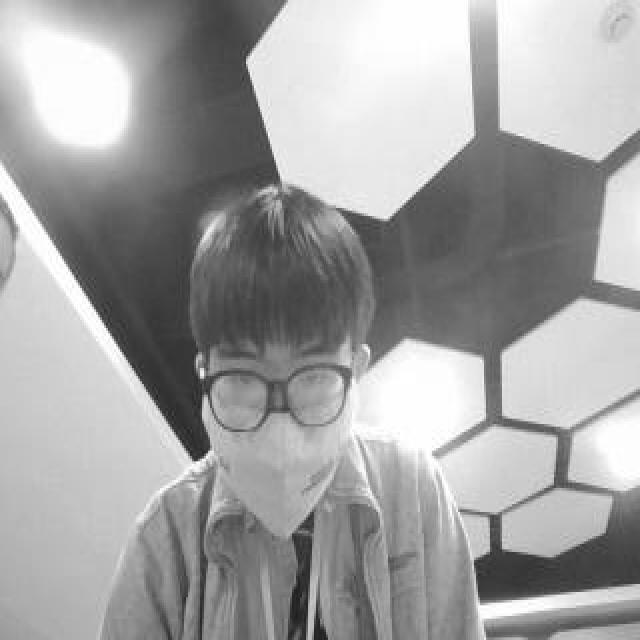Focused: (202, 340, 355, 510)
